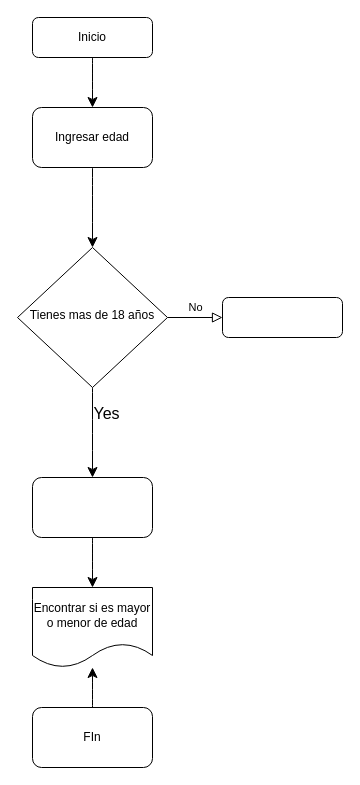
Image size: 360x785. Some labels were removed from this diagram. Each missing label, with the centre of its shape:
Imprimir "Eres mayor de edad": (92,507)
Imprimir "Eres menor de edad": (282,317)
